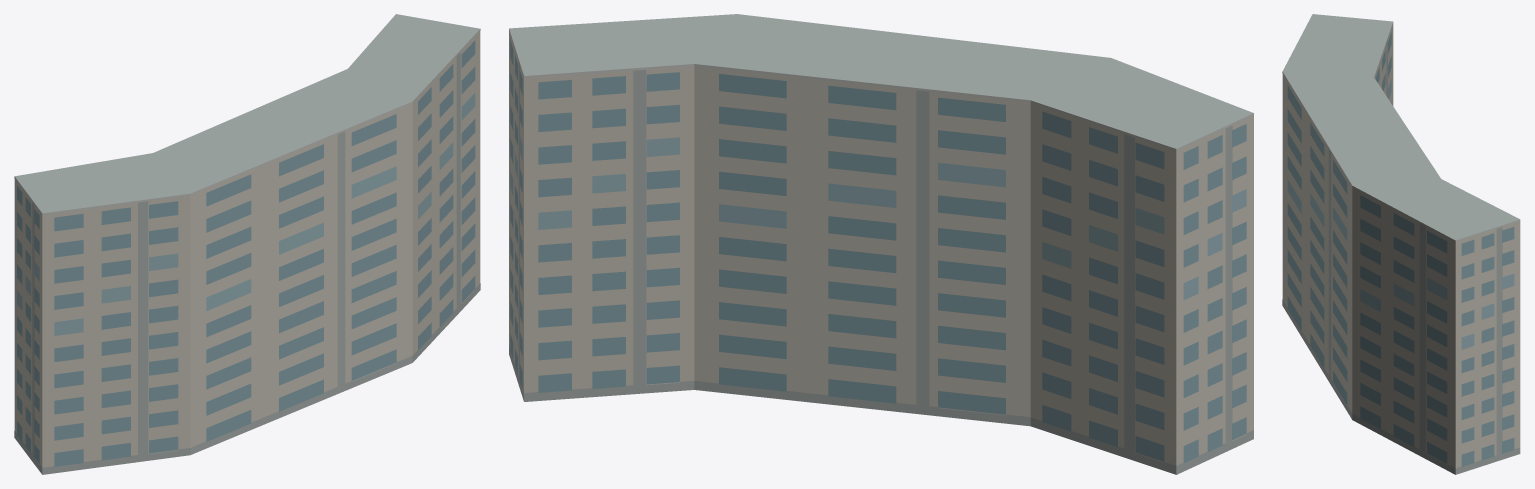
Rendered from residential-b8f747c2-7808-410c-9b1b-66e88b3d05a7.glb.
3 renders of one model, left to right at view 1: azimuth 30°, elevation 25°; view 2: azimuth 150°, elevation 25°; view 3: azimuth 270°, elevation 25°, orthographic. The views are drawn at different scales.
Visible parts, largest first — view 1: residential-b8f747c2-7808-410c-9b1b-66e88b3d05a7.tmp; view 2: residential-b8f747c2-7808-410c-9b1b-66e88b3d05a7.tmp; view 3: residential-b8f747c2-7808-410c-9b1b-66e88b3d05a7.tmp.
Boxes of the visible parts, bbox=[...] form: residential-b8f747c2-7808-410c-9b1b-66e88b3d05a7.tmp: bbox=[14, 14, 480, 474]; residential-b8f747c2-7808-410c-9b1b-66e88b3d05a7.tmp: bbox=[509, 14, 1253, 474]; residential-b8f747c2-7808-410c-9b1b-66e88b3d05a7.tmp: bbox=[1282, 14, 1520, 474].
Bounding box in the file's own units: 66.31 × 32 × 29.44.
